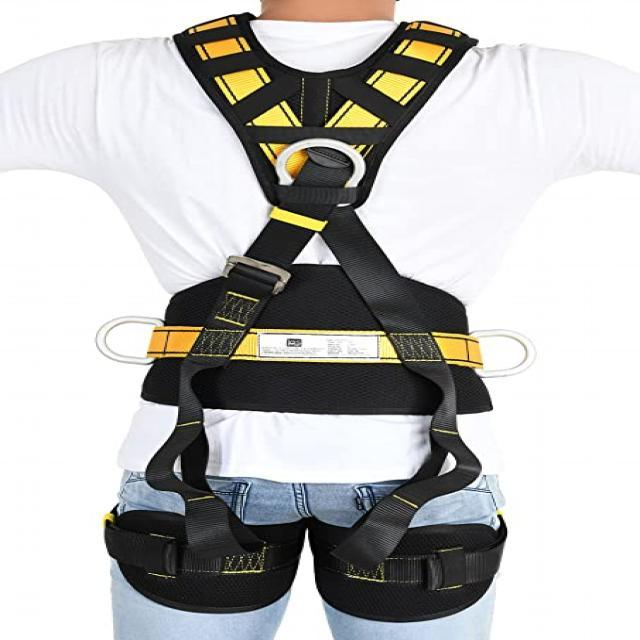belt: (111, 14, 514, 624)
